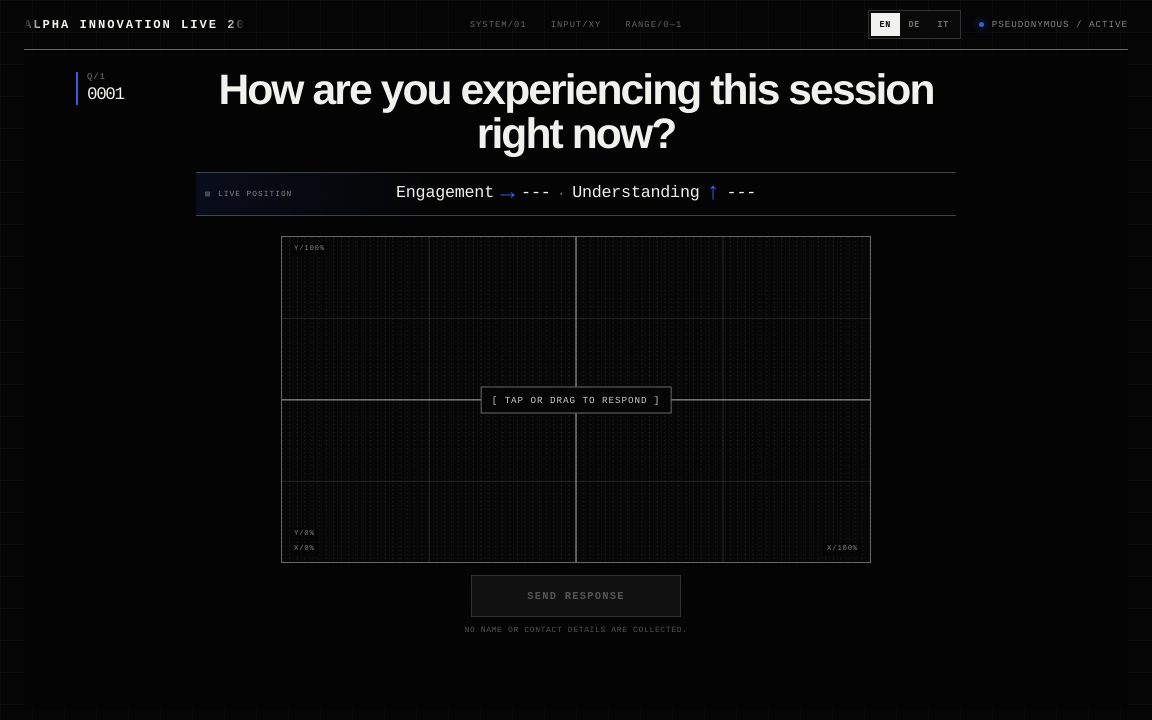
Scenario: App › switches question, labels, interface text, and language preference
expect the heading "How are you experiencing this session right now?" is shown: met, box [186,68,966,157]
Click the button "DE" at (914, 24), box [900,13,929,36]
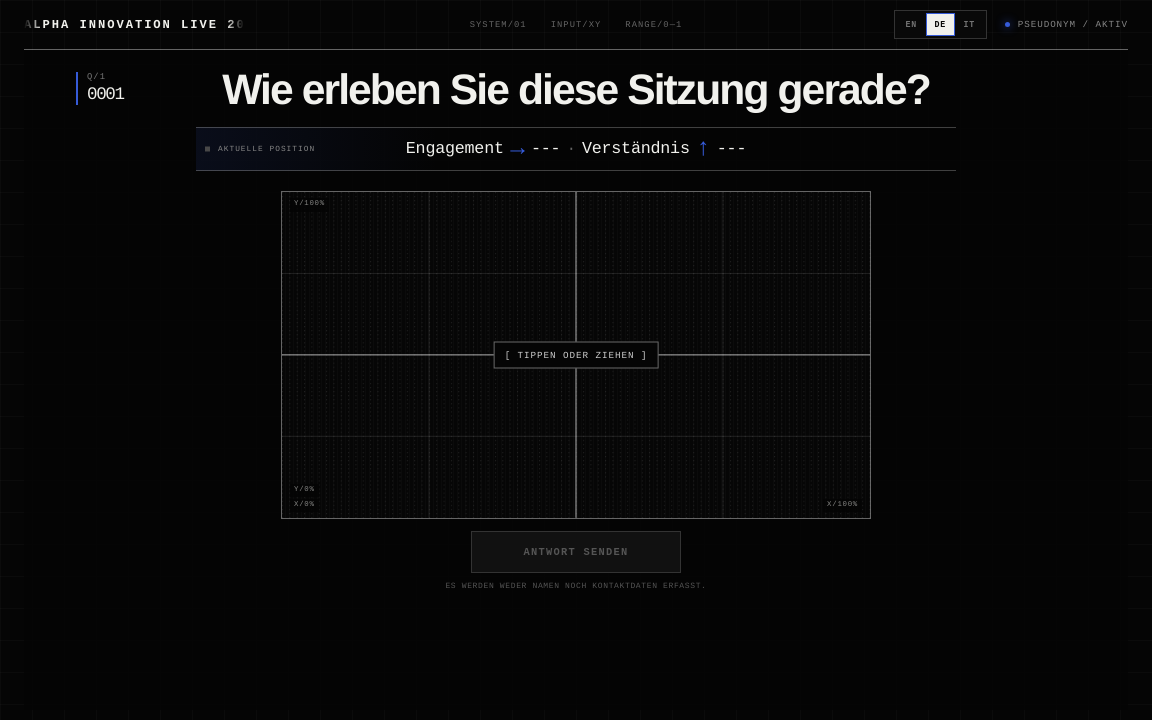
expect the heading "Wie erleben Sie diese Sitzung gerade?" is shown: met, box [186,68,966,112]
expect the text "Verständnis" is shown: met, box [582,140,690,159]
expect the button "Antwort senden" is shown: met, box [471,531,681,573]
Click the button "IT" at (969, 24), box [955,13,984,36]
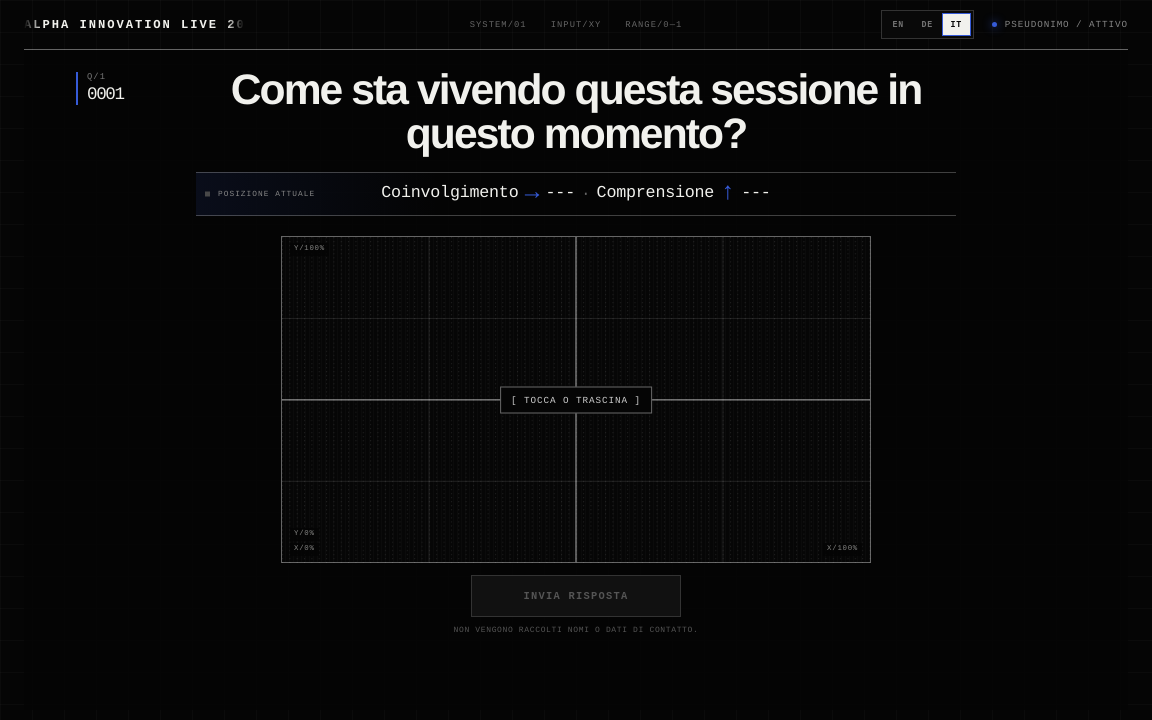
expect the heading "Come sta vivendo questa sessione in questo momento?" is shown: met, box [186,68,966,157]
expect the text "Comprensione" is shown: met, box [597,184,714,203]
expect the button "Invia risposta" is shown: met, box [471,575,681,617]
